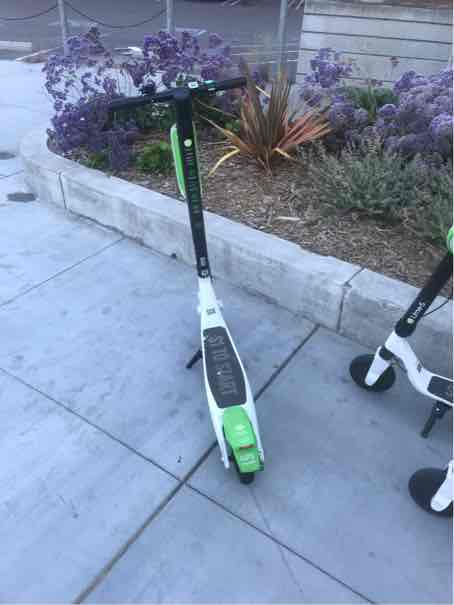scooter: (104, 76, 279, 474)
